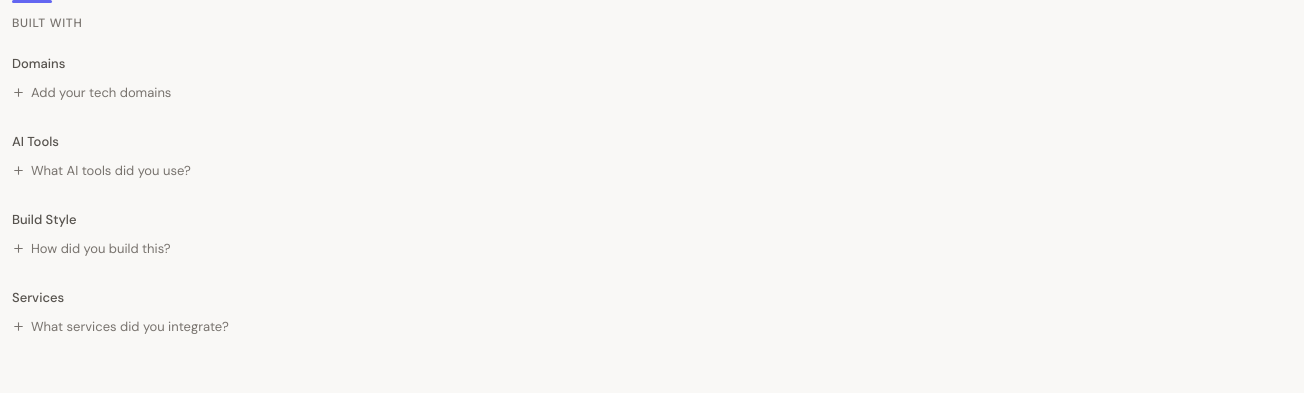
Test: BuiltWithSection › shows TagTypeahead when clicking the add button in owner mode
Click the button with aria-label "Add Domains": click(92, 92) [12, 84, 171, 101]
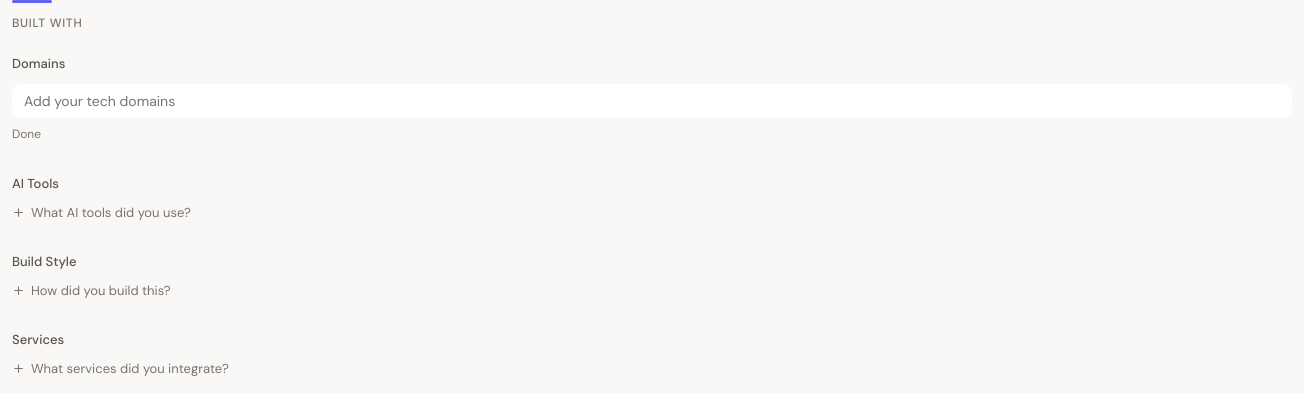
Check: the dropdown is shown, box [12, 84, 1292, 118]
